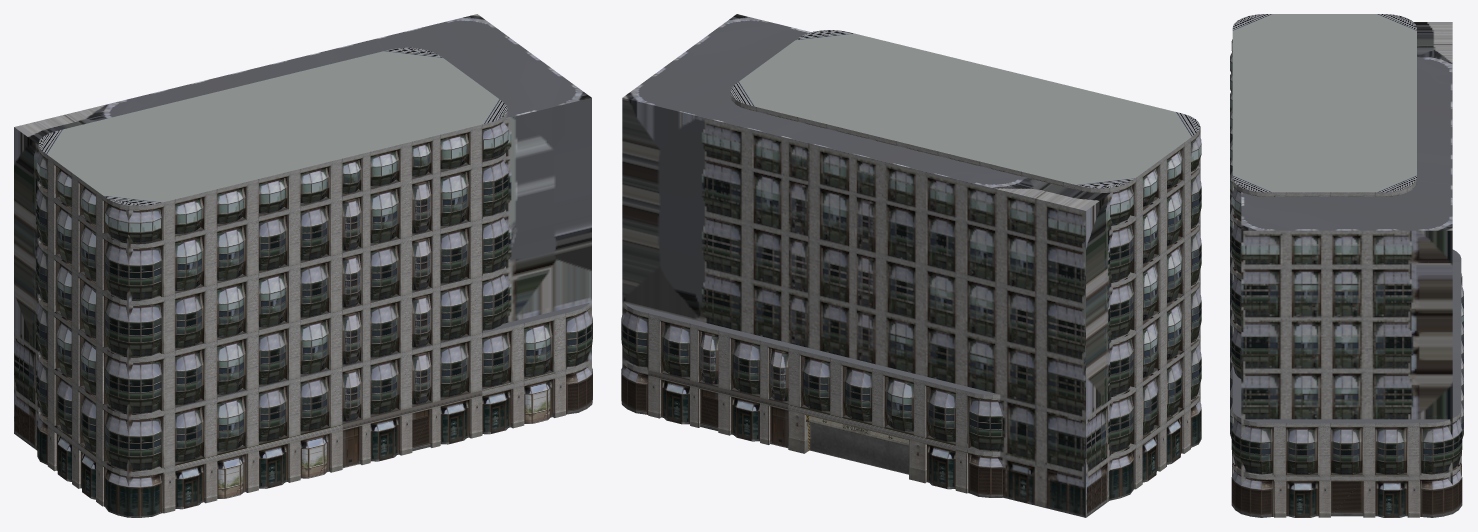
Rendered from m99_apt_complex.fbx.
The picture shows the model from 3 angles, left to right: view 1: azimuth 30°, elevation 25°; view 2: azimuth 150°, elevation 25°; view 3: azimuth 270°, elevation 25°; orthographic projection. The views are drawn at different scales.
Parts seen in each view (by area): view 1: m99_apt_complex_LOD0; view 2: m99_apt_complex_LOD0; view 3: m99_apt_complex_LOD0.
Boxes of the visible parts, <box> form: m99_apt_complex_LOD0: <box>14,14,592,517</box>; m99_apt_complex_LOD0: <box>621,14,1201,517</box>; m99_apt_complex_LOD0: <box>1230,14,1463,517</box>.
Size of what is drawn, in the model's own units: 55.35 by 34 by 25.05.
